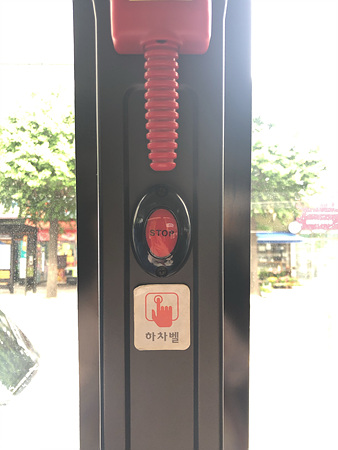bell: (131, 185, 193, 276)
